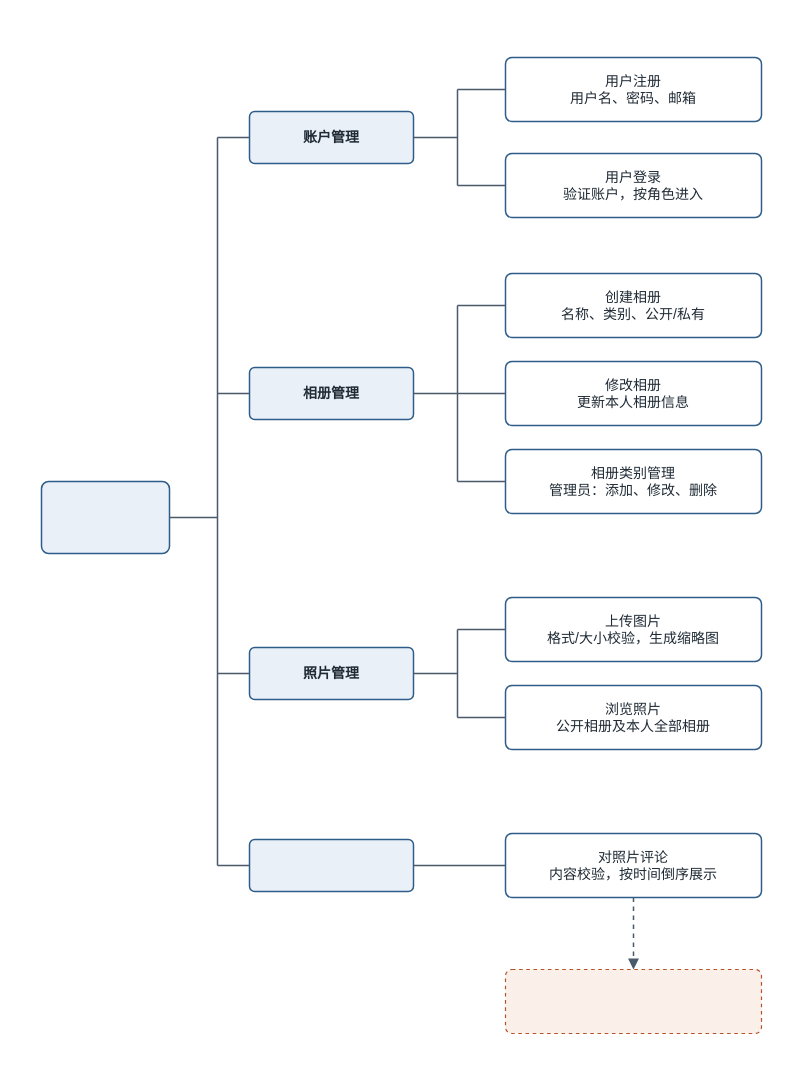
Image size: 802x1074. Some labels were removed from this diagram. Here are the shapes that lost their labels. From the top down, the box of each, then its label:
(40, 480, 170, 554): 电子相册 系统
(248, 838, 414, 892): 评论管理
(504, 968, 762, 1034): 删除自己的评论 （评论用例扩展，确认后删除）
